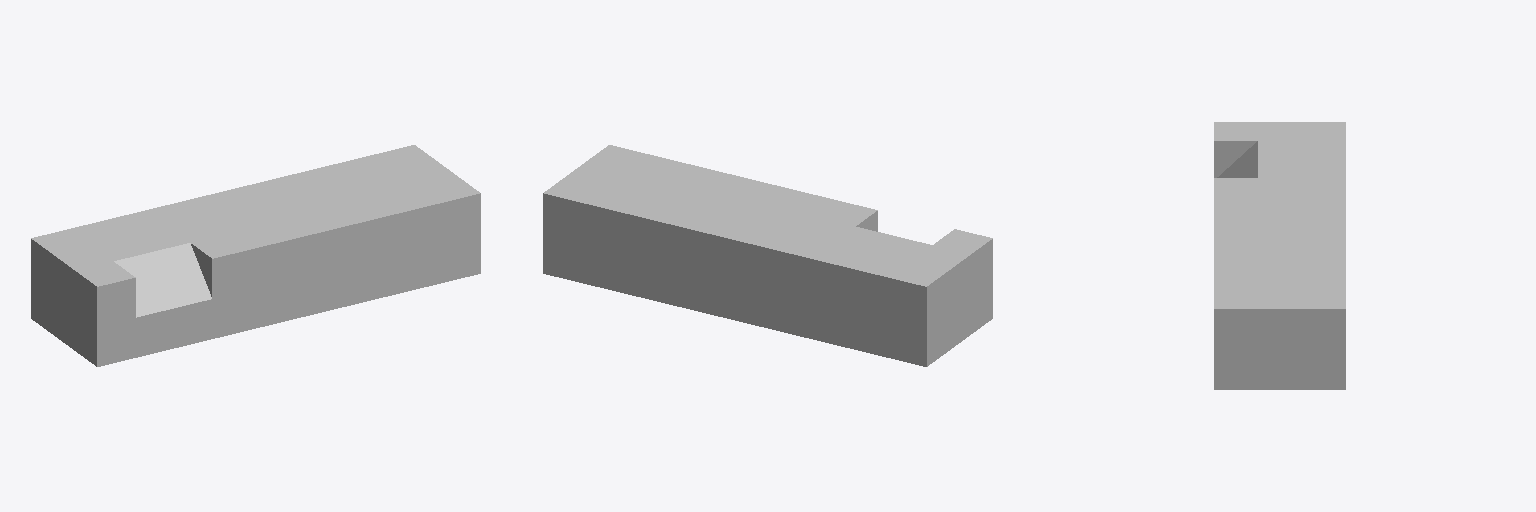
Rendered from Sidewalk4.obj.
3 views of the same model, side by side, from view 1: azimuth 30°, elevation 25°; view 2: azimuth 150°, elevation 25°; view 3: azimuth 270°, elevation 25° (orthographic).
Visible parts, largest first — view 1: RAMP-EDGE-2, SIDEWALK-1, RAMP, RAMP-EDGE-1; view 2: SIDEWALK-1, RAMP-EDGE-2, RAMP-EDGE-1; view 3: SIDEWALK-1, RAMP-EDGE-2, RAMP-EDGE-1, RAMP.
Part boxes in pixels (left/top/right/bottom): RAMP-EDGE-2: left=191, top=177, right=480, bottom=338; SIDEWALK-1: left=31, top=145, right=457, bottom=350; RAMP: left=114, top=243, right=211, bottom=357; RAMP-EDGE-1: left=75, top=261, right=135, bottom=366; SIDEWALK-1: left=543, top=161, right=970, bottom=366; RAMP-EDGE-2: left=588, top=145, right=877, bottom=231; RAMP-EDGE-1: left=934, top=229, right=992, bottom=333; SIDEWALK-1: left=1258, top=122, right=1345, bottom=389; RAMP-EDGE-2: left=1214, top=178, right=1257, bottom=389; RAMP-EDGE-1: left=1214, top=122, right=1257, bottom=177; RAMP: left=1217, top=141, right=1257, bottom=177.
Bounding box in the file's own units: 10 × 2 × 3.